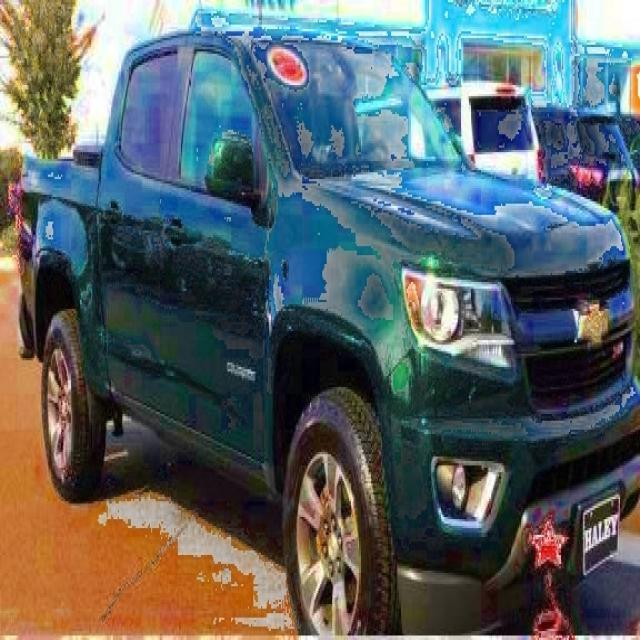green: (19, 6, 640, 640)
